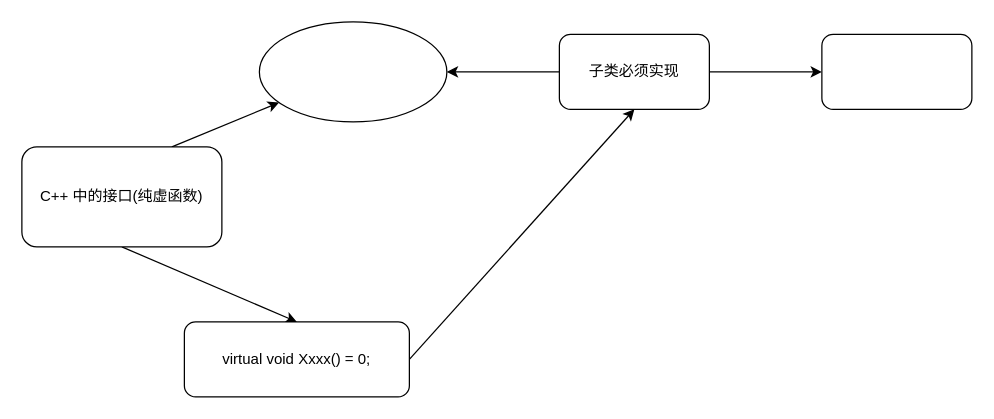
This 994x419 diagram has some shape labels left out. The shapes that lost their labels are listed below. From the top down, each one's centre as x and y in pixels, then its label:
At (352,71): "纯虚函数=特殊类型的虚函数=接口=基类中没有实现的函数".
At (896,71): "子类必须实现所有纯虚函数才能被实例化".
